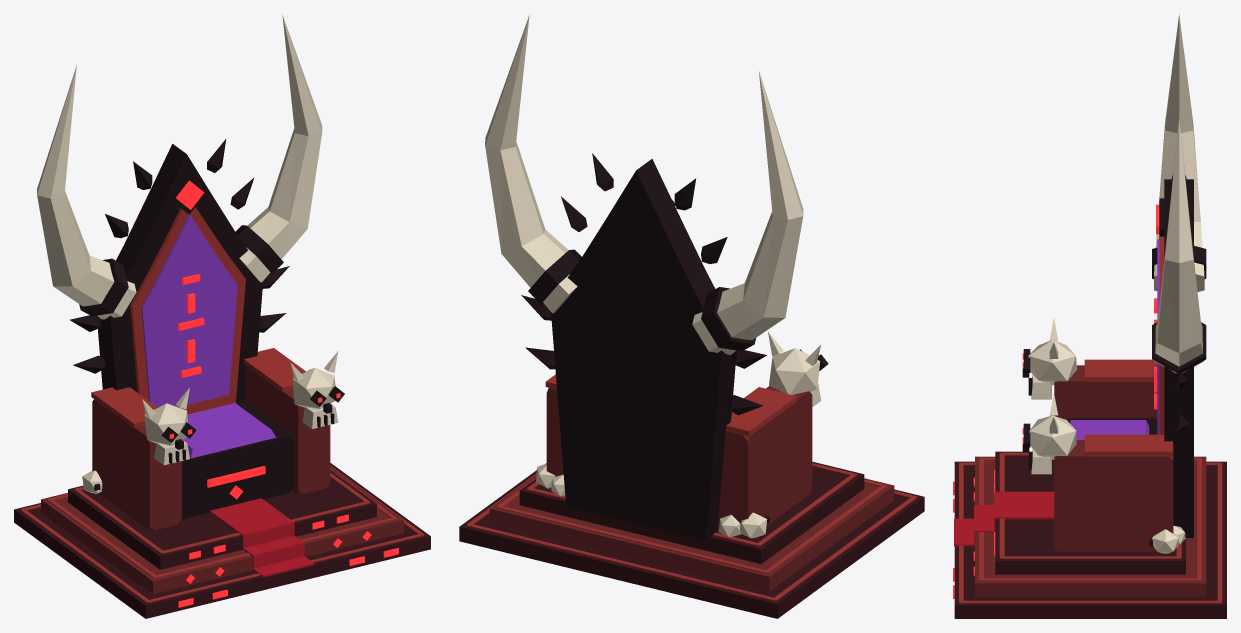
File: Hell_4_DemonThrone.fbx
3 renders of one model, left to right at view 1: azimuth 30°, elevation 25°; view 2: azimuth 150°, elevation 25°; view 3: azimuth 270°, elevation 25°, orthographic. The views are drawn at different scales.
Parts seen in each view (by area): view 1: Hell_4_DemonThrone__Hell_Black, Hell_4_DemonThrone__Hell_Tile, Hell_4_DemonThrone__Hell_Bone, Hell_4_DemonThrone__Hell_GroundDark, Hell_4_DemonThrone__Hell_Purple, Hell_4_DemonThrone__Hell_TileBorder, Hell_4_DemonThrone__Hell_Banner, Hell_4_DemonThrone__Neon_Hell_Red; view 2: Hell_4_DemonThrone__Hell_Black, Hell_4_DemonThrone__Hell_Bone, Hell_4_DemonThrone__Hell_Tile, Hell_4_DemonThrone__Hell_GroundDark, Hell_4_DemonThrone__Hell_TileBorder; view 3: Hell_4_DemonThrone__Hell_Tile, Hell_4_DemonThrone__Hell_GroundDark, Hell_4_DemonThrone__Hell_Bone, Hell_4_DemonThrone__Hell_TileBorder, Hell_4_DemonThrone__Hell_Black, Hell_4_DemonThrone__Hell_Banner, Hell_4_DemonThrone__Hell_Purple, Hell_4_DemonThrone__Neon_Hell_Red.
Part boxes in pixels (x1=…): Hell_4_DemonThrone__Hell_Black: x1=69, y1=139, x2=344, y2=519; Hell_4_DemonThrone__Hell_Tile: x1=41, y1=365, x2=403, y2=594; Hell_4_DemonThrone__Hell_Bone: x1=37, y1=14, x2=338, y2=493; Hell_4_DemonThrone__Hell_GroundDark: x1=14, y1=463, x2=430, y2=618; Hell_4_DemonThrone__Hell_Purple: x1=141, y1=214, x2=276, y2=458; Hell_4_DemonThrone__Hell_TileBorder: x1=20, y1=207, x2=424, y2=602; Hell_4_DemonThrone__Hell_Banner: x1=210, y1=498, x2=314, y2=577; Hell_4_DemonThrone__Neon_Hell_Red: x1=169, y1=180, x2=398, y2=607; Hell_4_DemonThrone__Hell_Black: x1=521, y1=153, x2=828, y2=540; Hell_4_DemonThrone__Hell_Bone: x1=485, y1=15, x2=821, y2=538; Hell_4_DemonThrone__Hell_Tile: x1=489, y1=386, x2=894, y2=591; Hell_4_DemonThrone__Hell_GroundDark: x1=459, y1=461, x2=924, y2=618; Hell_4_DemonThrone__Hell_TileBorder: x1=466, y1=374, x2=917, y2=601; Hell_4_DemonThrone__Hell_Tile: x1=975, y1=365, x2=1206, y2=596; Hell_4_DemonThrone__Hell_GroundDark: x1=954, y1=451, x2=1226, y2=618; Hell_4_DemonThrone__Hell_Bone: x1=1028, y1=14, x2=1204, y2=553; Hell_4_DemonThrone__Hell_TileBorder: x1=959, y1=236, x2=1222, y2=603; Hell_4_DemonThrone__Hell_Black: x1=1022, y1=174, x2=1206, y2=546; Hell_4_DemonThrone__Hell_Banner: x1=954, y1=491, x2=1054, y2=546; Hell_4_DemonThrone__Hell_Purple: x1=1069, y1=239, x2=1159, y2=439; Hell_4_DemonThrone__Neon_Hell_Red: x1=953, y1=204, x2=1159, y2=598.
Size of the model in its own units: 50 by 78 by 40.2.
